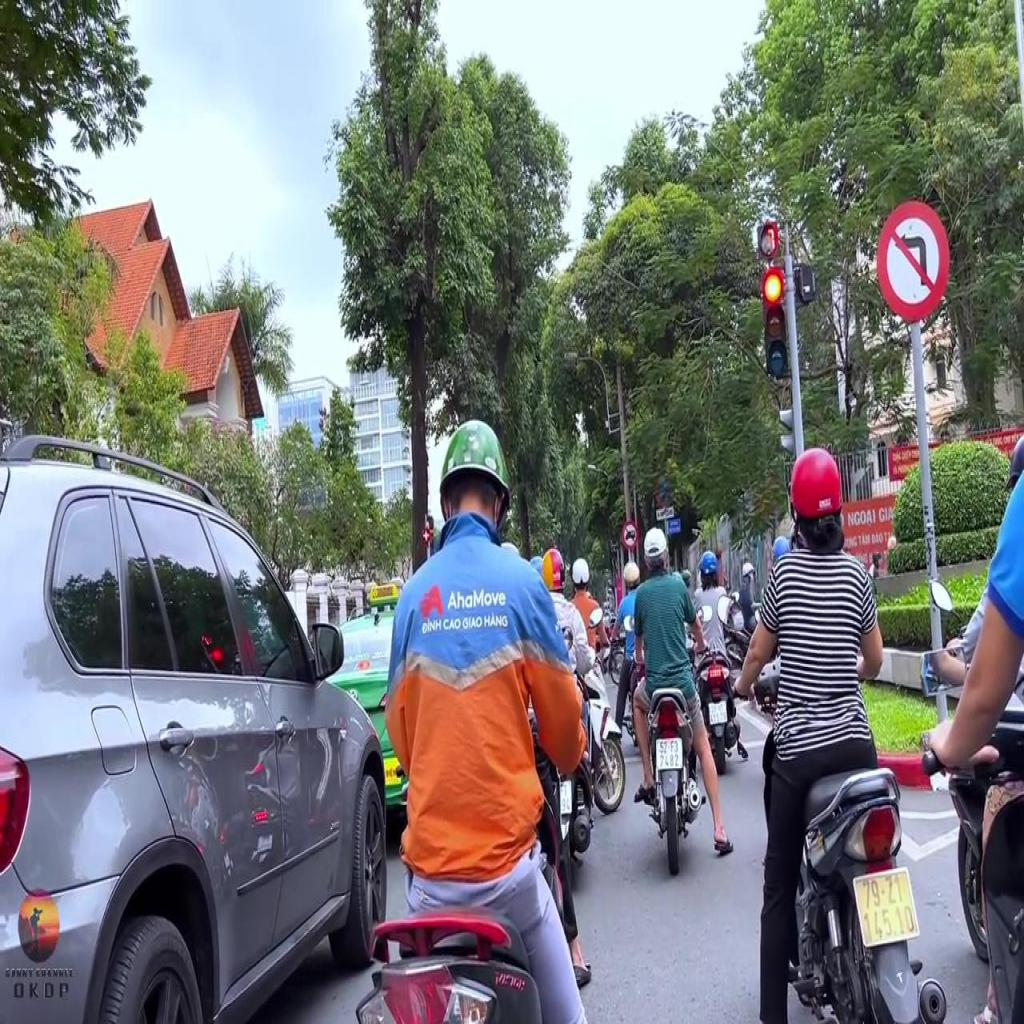cam_o_to_tai_trong_luong_qua_2-5t: (624, 523, 638, 549)
cam_re_trai: (876, 198, 950, 324)
